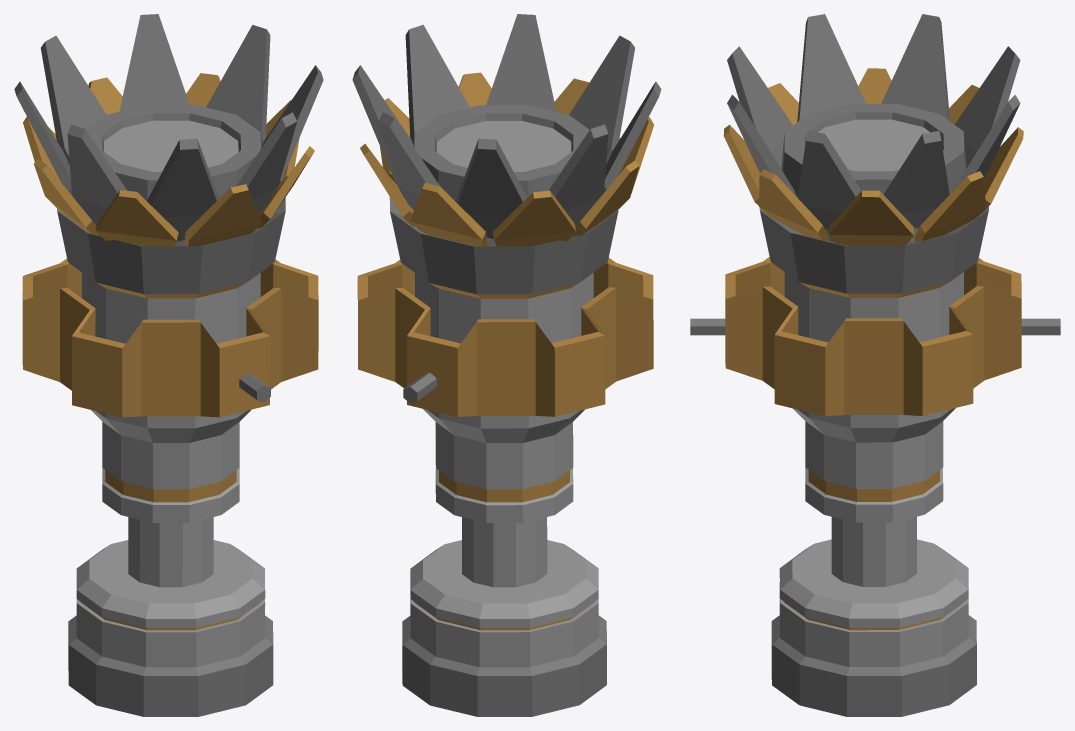
File: quaternius-modular-sci-fi-props-statue.glb
3 renders of one model, left to right at view 1: azimuth 30°, elevation 25°; view 2: azimuth 150°, elevation 25°; view 3: azimuth 270°, elevation 25°, orthographic.
Parts seen in each view (by area): view 1: Props_Statue; view 2: Props_Statue; view 3: Props_Statue.
Part boxes in pixels (box(x1,y1,x2,y2)): Props_Statue: box(14, 14, 323, 716); Props_Statue: box(352, 14, 661, 716); Props_Statue: box(690, 14, 1060, 716).
Size of the model in its own units: 1.18 by 2.61 by 1.46.
